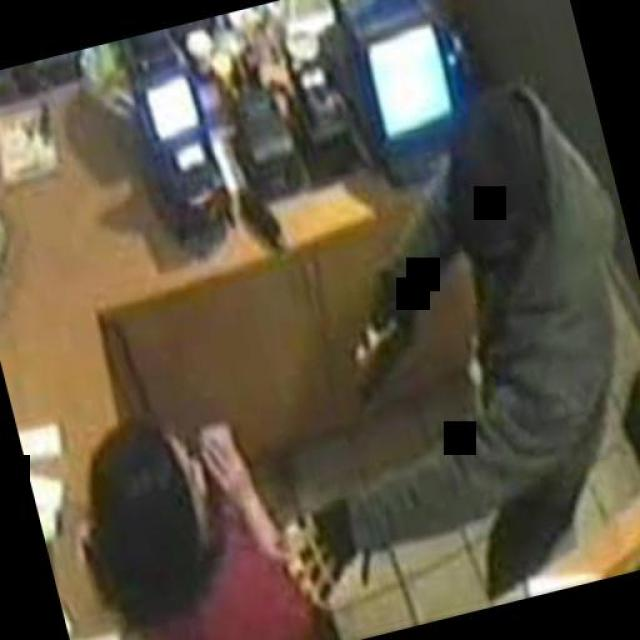gun: (322, 266, 442, 398)
